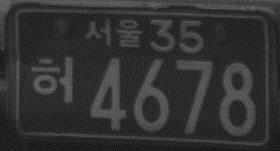3: (150, 15, 176, 53)
4: (88, 55, 127, 132)
5: (179, 19, 204, 55)
6: (133, 57, 172, 131)
7: (175, 57, 214, 136)
8: (220, 59, 258, 138)
서울_O: (84, 15, 144, 51)
허: (33, 51, 75, 105)
